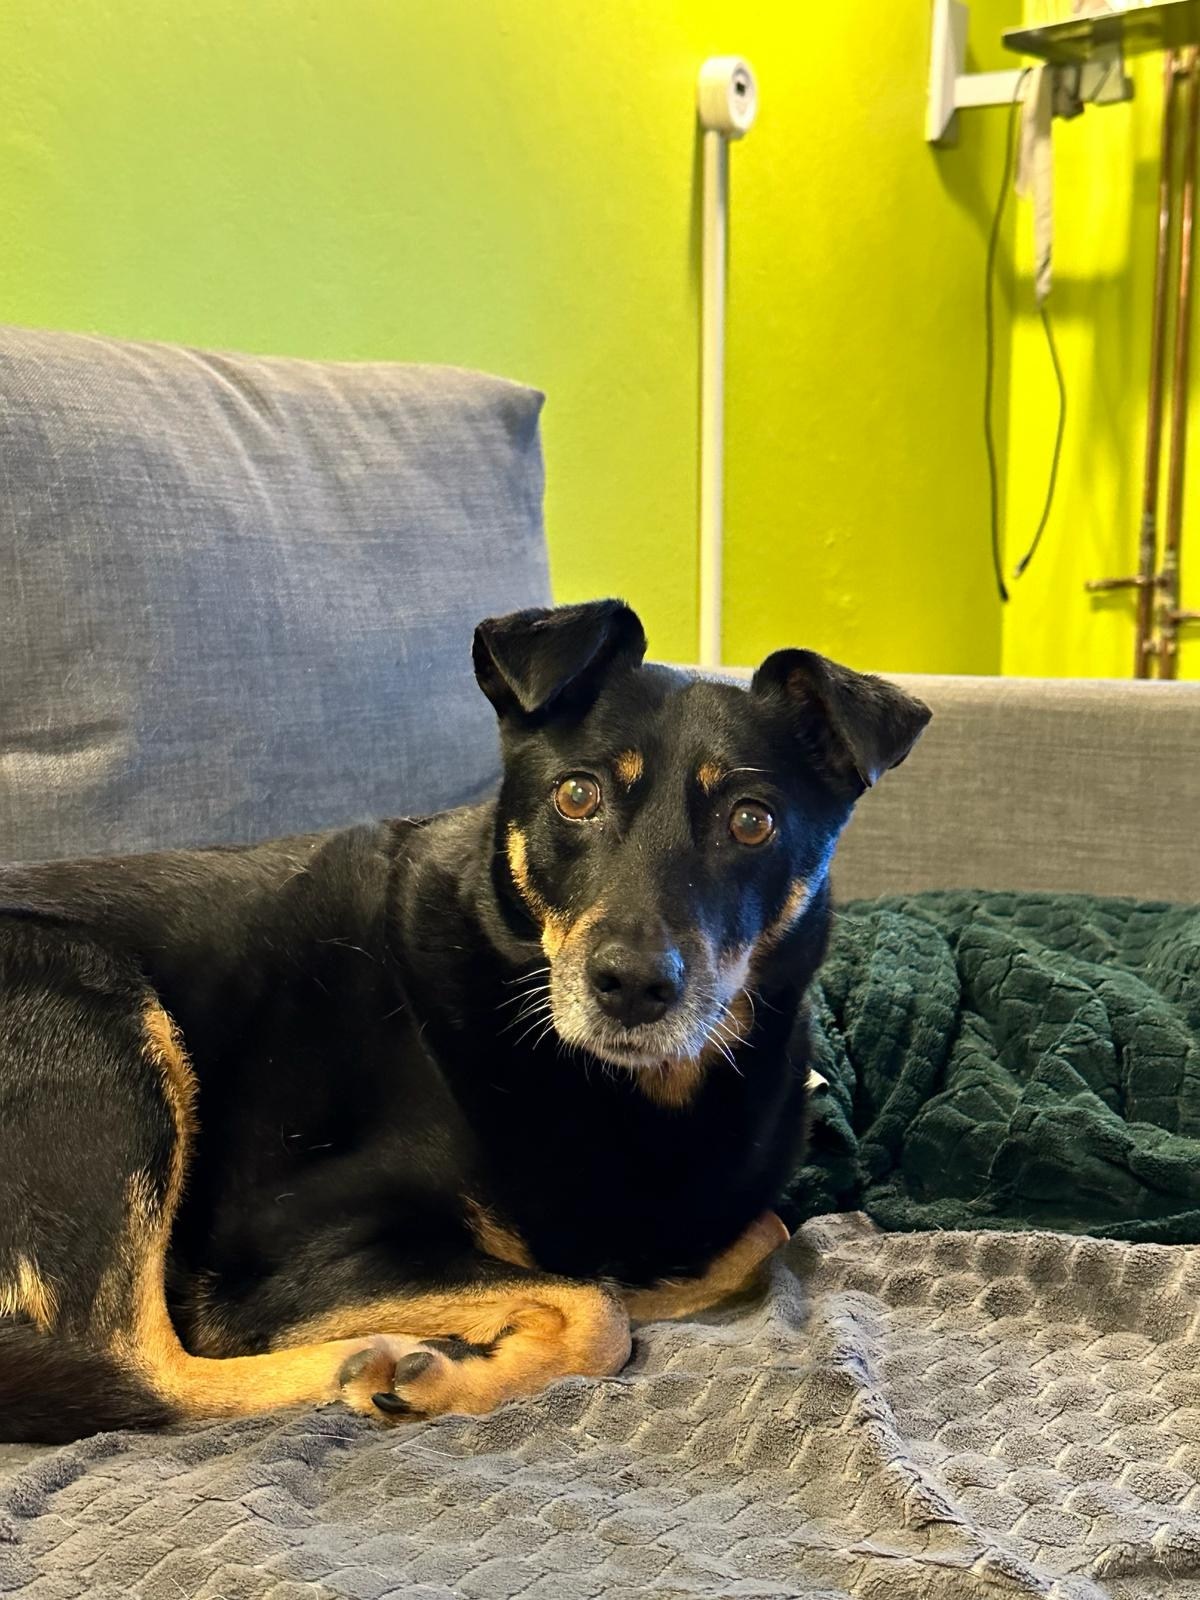reksio: (376, 548, 1031, 1262)
